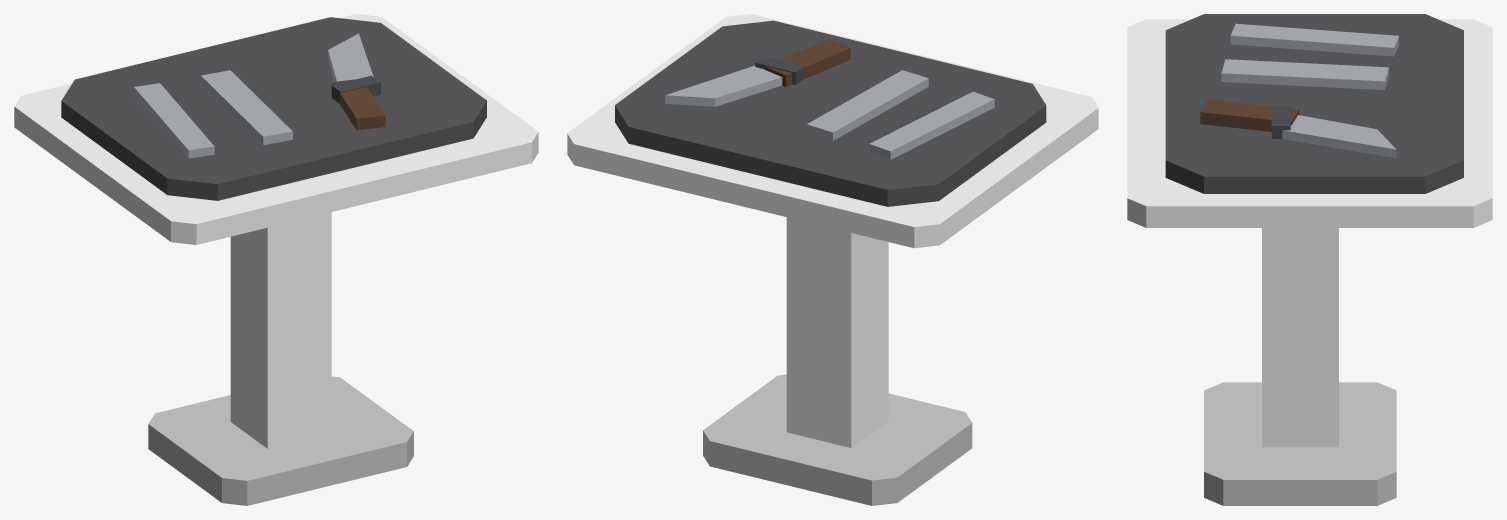
File: vfem2_surgical_tools.obj
3 renders of one model, left to right at view 1: azimuth 30°, elevation 25°; view 2: azimuth 150°, elevation 25°; view 3: azimuth 270°, elevation 25°, orthographic. The views are drawn at different scales.
Visible parts, largest first — view 1: vfem2_surgical_tools; view 2: vfem2_surgical_tools; view 3: vfem2_surgical_tools.
Boxes of the visible parts, x1,y1,x2,y2 form: vfem2_surgical_tools: [14, 14, 538, 505]; vfem2_surgical_tools: [567, 14, 1098, 505]; vfem2_surgical_tools: [1127, 14, 1492, 505].
Bounding box in the file's own units: 0.92 × 0.86 × 0.76.
